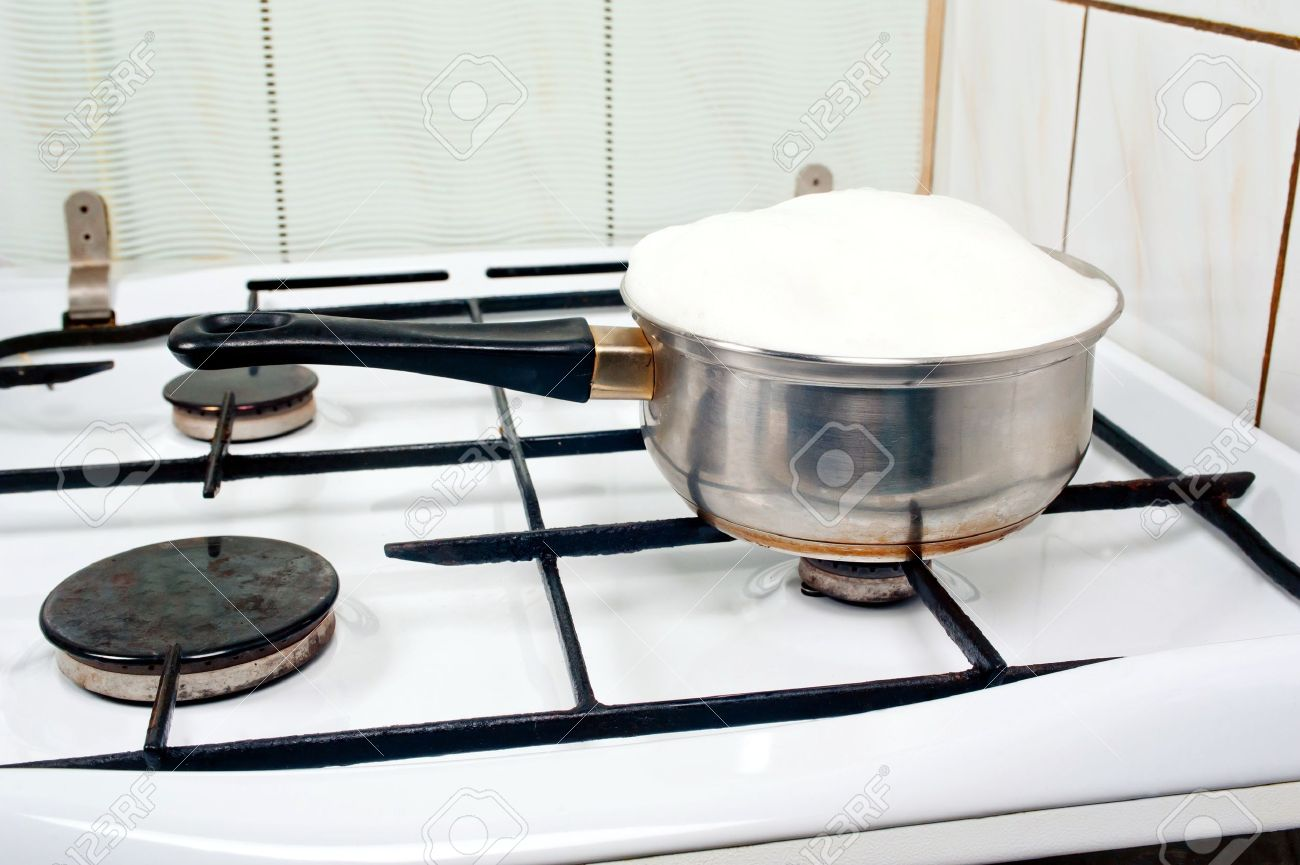Boiled: (624, 183, 1127, 479)
